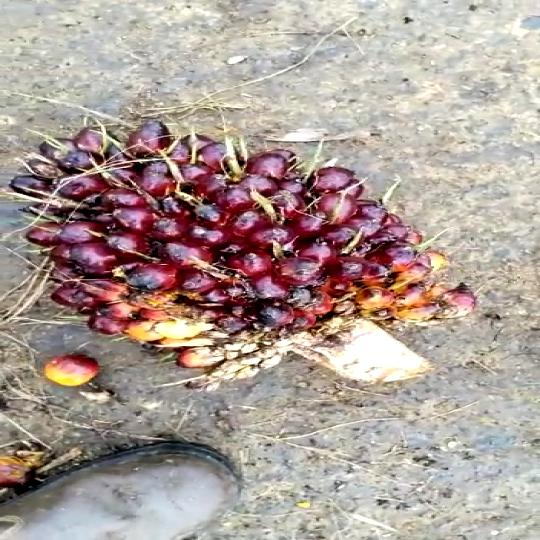kurang masak: (23, 92, 462, 425)
